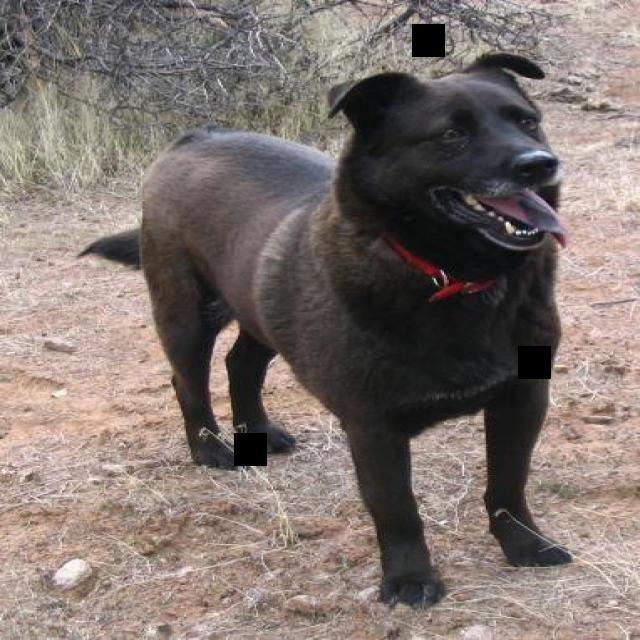adult_dog: (74, 45, 582, 614)
